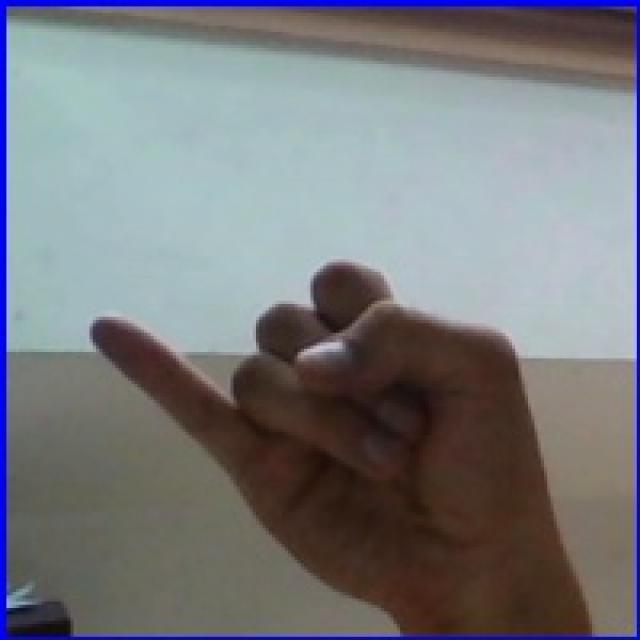J: (64, 164, 583, 612)
